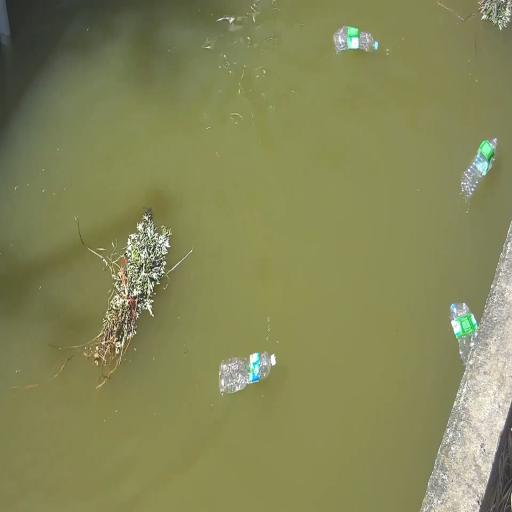plastic: (219, 352, 275, 394), (462, 138, 497, 201), (450, 302, 478, 365), (334, 26, 378, 54)
twig: (76, 209, 172, 386), (479, 0, 512, 30)
